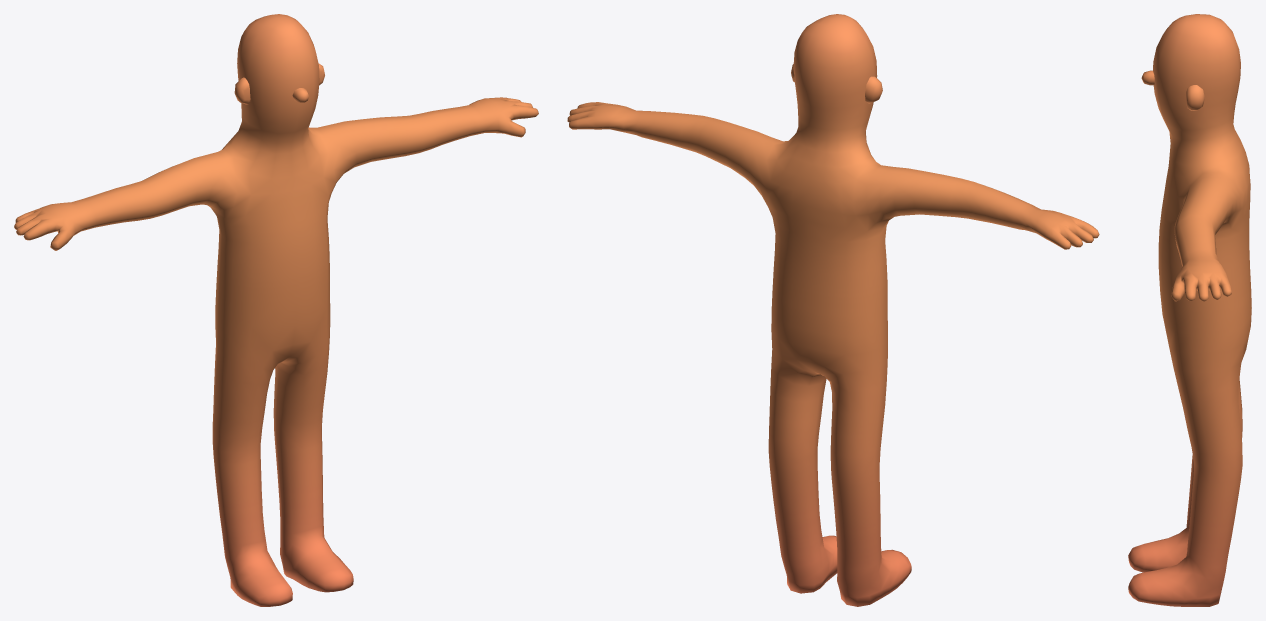
File: Body_TPose.obj
3 renders of one model, left to right at view 1: azimuth 30°, elevation 25°; view 2: azimuth 150°, elevation 25°; view 3: azimuth 270°, elevation 25°, orthographic.
Parts seen in each view (by area): view 1: Body_TPose; view 2: Body_TPose; view 3: Body_TPose.
Boxes of the visible parts, box(x1,y1,x2,y2) form: Body_TPose: box(14, 14, 538, 606); Body_TPose: box(567, 14, 1099, 606); Body_TPose: box(1128, 14, 1251, 606).
Size of the model in its own units: 1.75 by 1.83 by 0.3598.
1 material, 1 textured.
